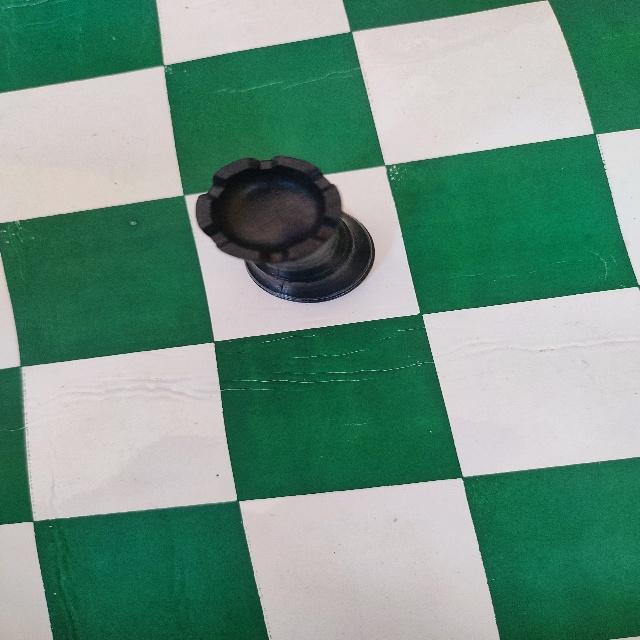Rook: (193, 154, 379, 307)
